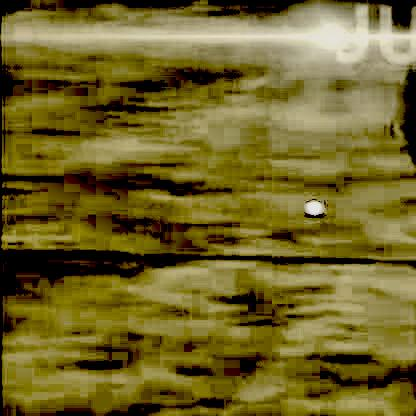golfball: (302, 199, 321, 217)
